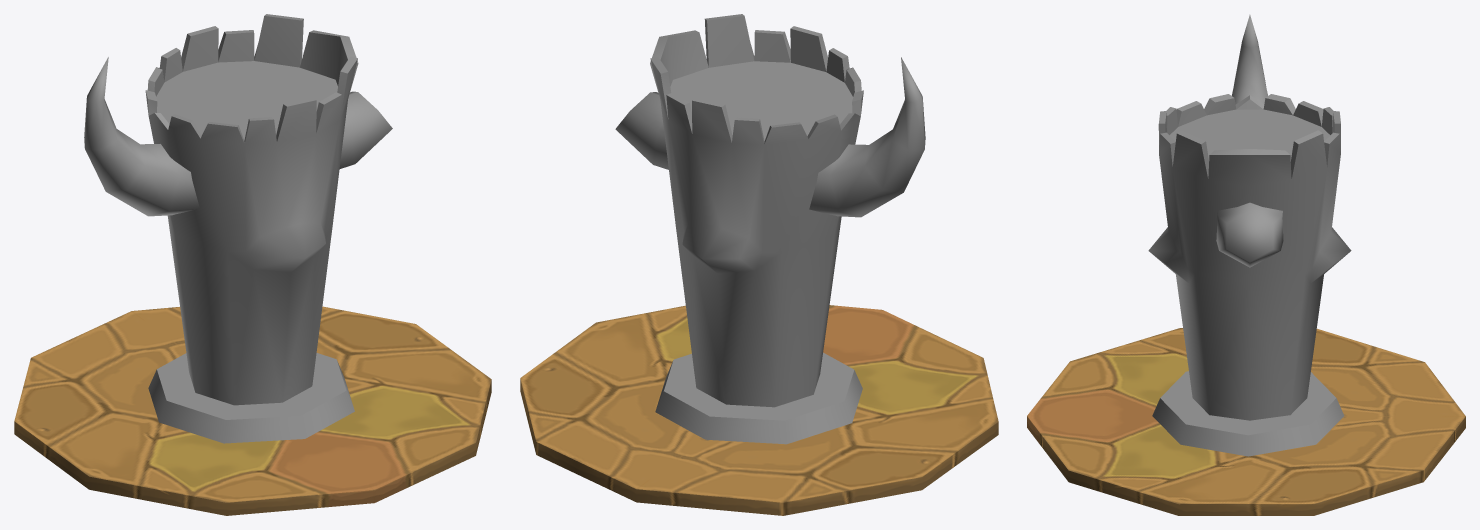
File: The main city_006_LV01.FBX
3 renders of one model, left to right at view 1: azimuth 30°, elevation 25°; view 2: azimuth 150°, elevation 25°; view 3: azimuth 270°, elevation 25°, orthographic. The views are drawn at different scales.
Visible parts, largest first — view 1: The main city_006_LV01; view 2: The main city_006_LV01; view 3: The main city_006_LV01.
Part boxes in pixels (x1=…): The main city_006_LV01: x1=14, y1=14, x2=491, y2=515; The main city_006_LV01: x1=520, y1=14, x2=998, y2=515; The main city_006_LV01: x1=1027, y1=14, x2=1465, y2=515.
Size of the model in its own units: 32.23 by 29.98 by 33.93.
